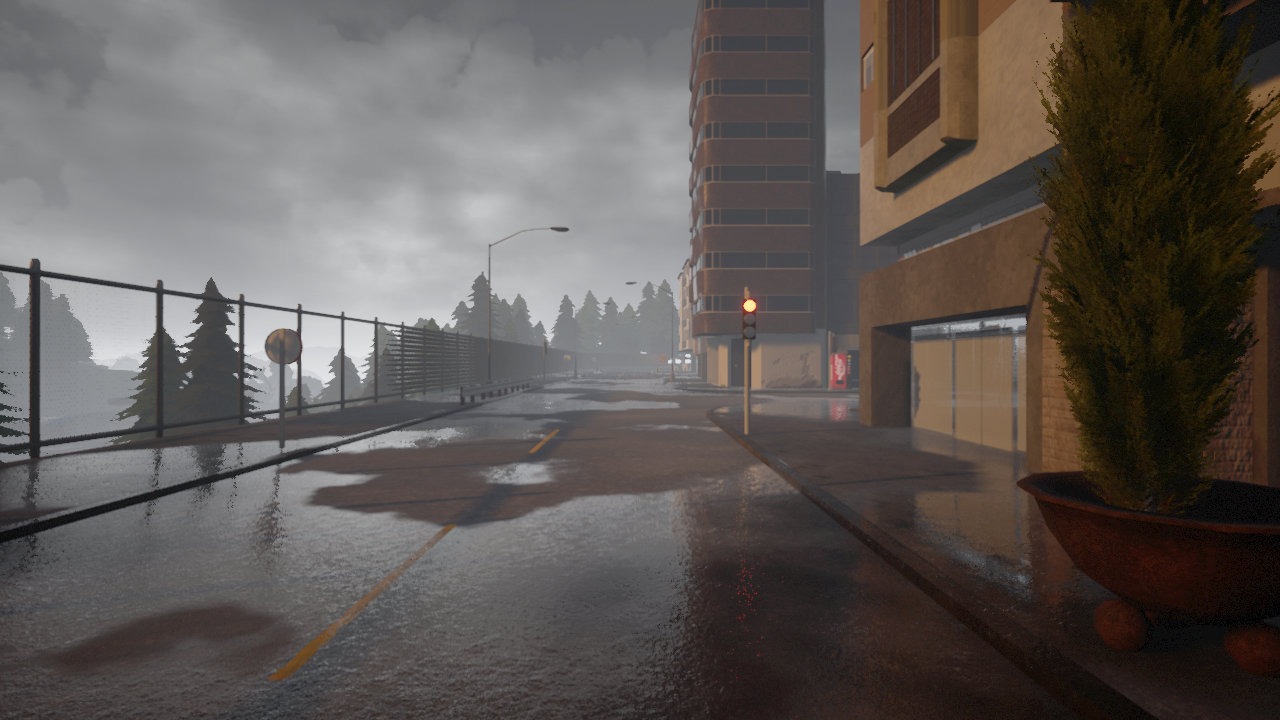red: (741, 298, 757, 341)
